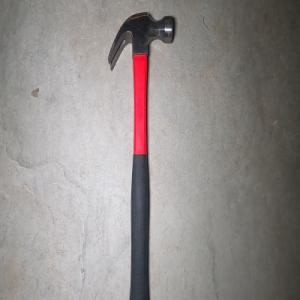Hammer: (107, 10, 174, 300)
